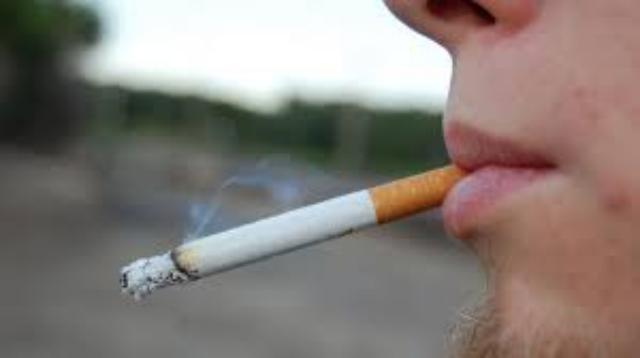Cigarette: (119, 162, 479, 302)
